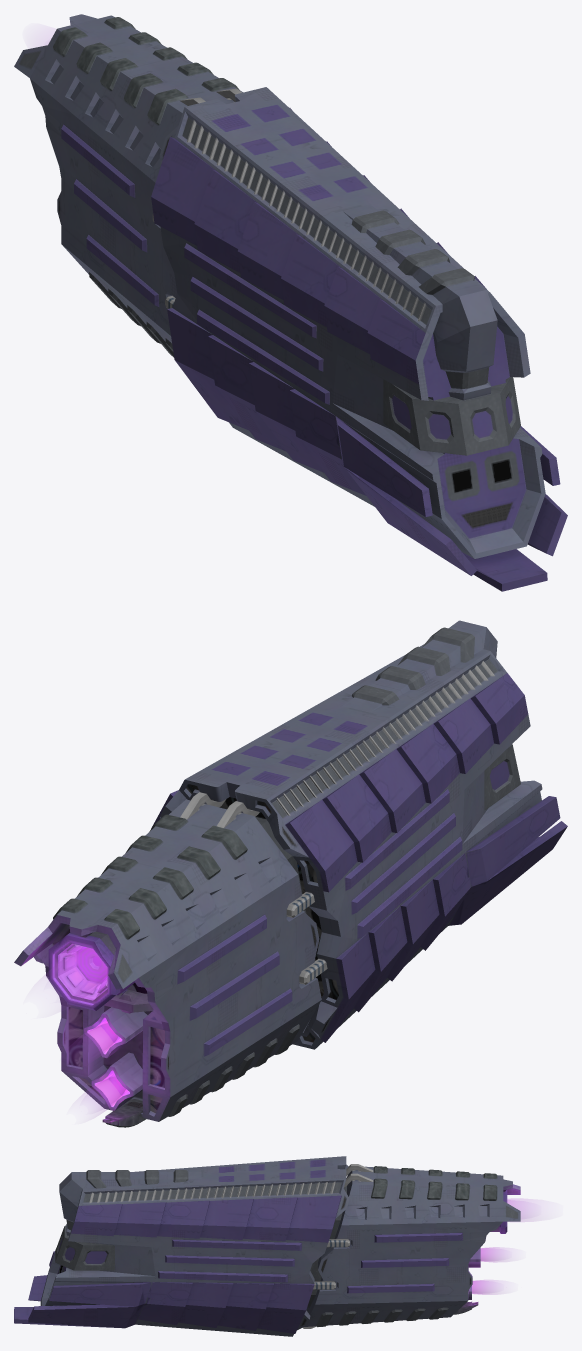
Rendered from pythagoras.gltf.
3 views of the same model, one above another, from view 1: azimuth 30°, elevation 25°; view 2: azimuth 150°, elevation 25°; view 3: azimuth 270°, elevation 25° (orthographic). The views are drawn at different scales.
Visible parts, largest first — view 1: Base Glow; view 2: Base Glow, Sphere; view 3: Base Glow, Sphere.
Boxes of the visible parts, x1,y1,x2,y2 form: Base Glow: [14, 14, 567, 591]; Base Glow: [14, 620, 567, 1127]; Sphere: [47, 947, 125, 1115]; Base Glow: [14, 1156, 520, 1336]; Sphere: [472, 1198, 540, 1294].
Bounding box in the file's own units: 4.8 × 7.5 × 23.75.
Materials: 2 (2 with a texture image).
